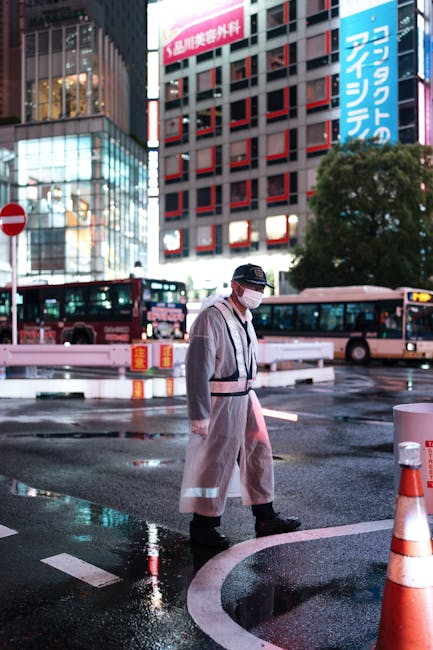traffic_cone: (371, 441, 432, 649)
